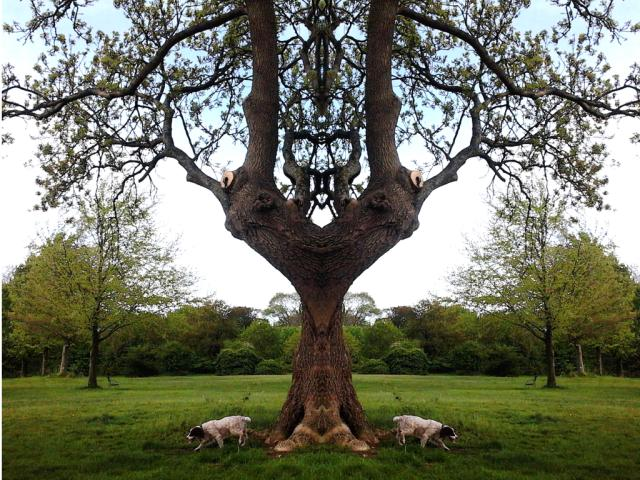Dog: (185, 415, 251, 452), (393, 414, 458, 449)
